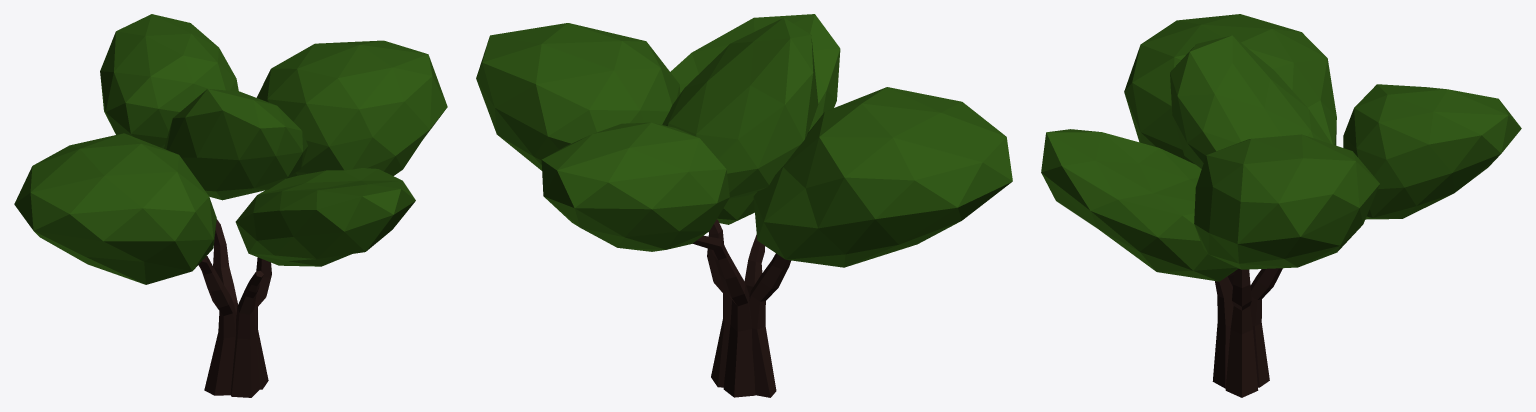
File: SM_tree_olive_01.FBX
3 views of the same model, side by side, from view 1: azimuth 30°, elevation 25°; view 2: azimuth 150°, elevation 25°; view 3: azimuth 270°, elevation 25° (orthographic). The views are drawn at different scales.
Visible parts, largest first — view 1: Object041; view 2: Object041; view 3: Object041.
Boxes of the visible parts, <box> form: Object041: <box>14,14,447,397</box>; Object041: <box>476,14,1012,397</box>; Object041: <box>1041,14,1521,397</box>.
Size of the model in its own units: 879 by 609 by 807.
